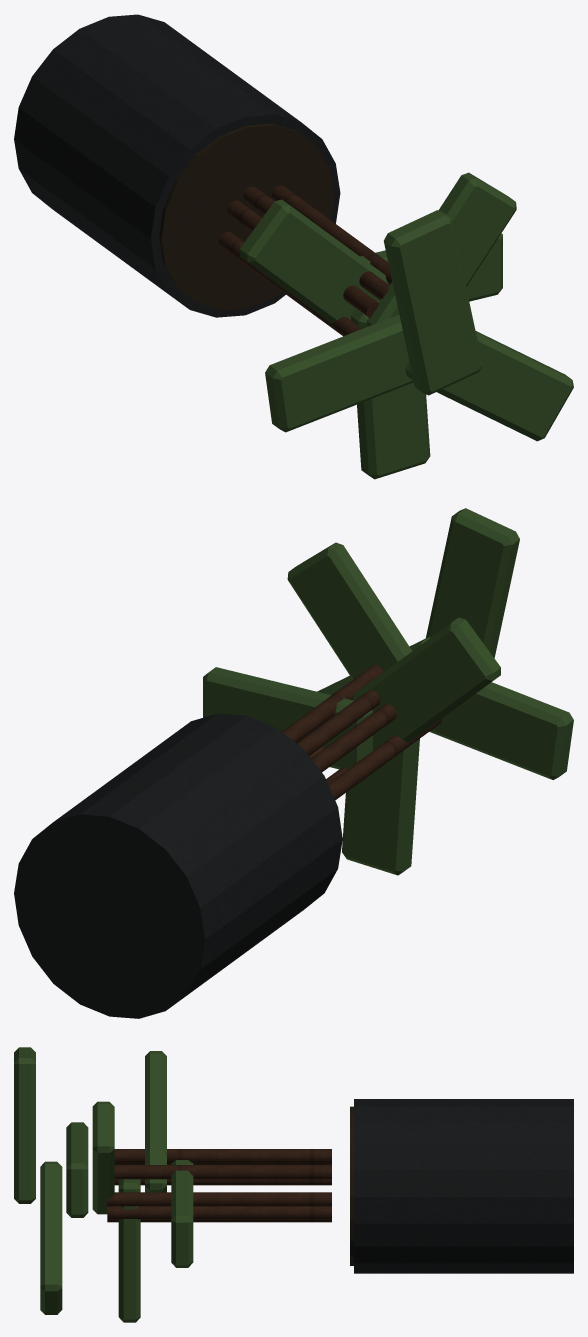
The model's file is family_planter.obj.
3 views of the same model, one above another, from view 1: azimuth 30°, elevation 25°; view 2: azimuth 150°, elevation 25°; view 3: azimuth 270°, elevation 25° (orthographic). The views are drawn at different scales.
Visible parts, largest first — view 1: family_planter_foliage, family_planter_charcoal, family_planter_soil, family_planter_walnut; view 2: family_planter_charcoal, family_planter_foliage, family_planter_walnut; view 3: family_planter_charcoal, family_planter_foliage, family_planter_walnut, family_planter_soil.
Part boxes in pixels (bbox=[...]): family_planter_foliage: bbox=[239, 172, 573, 479]; family_planter_charcoal: bbox=[14, 14, 340, 317]; family_planter_soil: bbox=[159, 123, 334, 310]; family_planter_walnut: bbox=[219, 185, 392, 336]; family_planter_charcoal: bbox=[14, 713, 342, 1018]; family_planter_foliage: bbox=[203, 508, 573, 875]; family_planter_walnut: bbox=[282, 665, 442, 800]; family_planter_charcoal: bbox=[354, 1099, 573, 1273]; family_planter_foliage: bbox=[14, 1047, 193, 1322]; family_planter_walnut: bbox=[107, 1149, 331, 1222]; family_planter_soil: bbox=[350, 1106, 353, 1265].
Size of the model in its own units: 24.95 by 25.03 by 50.88.
Materials: 4 (4 with a texture image).
